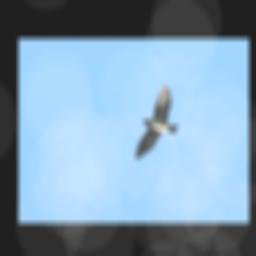Swallow: (119, 84, 189, 160)
